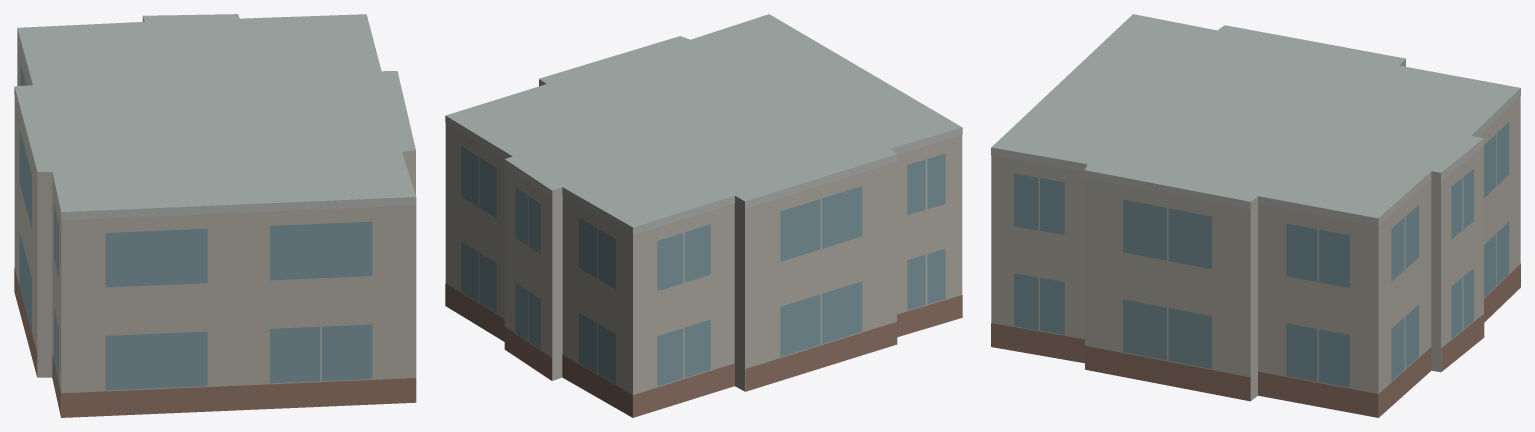
The model's file is survey-upis-32672101.glb.
3 renders of one model, left to right at view 1: azimuth 30°, elevation 25°; view 2: azimuth 150°, elevation 25°; view 3: azimuth 270°, elevation 25°, orthographic. The views are drawn at different scales.
Visible parts, largest first — view 1: survey-upis-32672101.tmp; view 2: survey-upis-32672101.tmp; view 3: survey-upis-32672101.tmp.
Boxes of the visible parts, bbox=[...] form: survey-upis-32672101.tmp: bbox=[14, 14, 416, 417]; survey-upis-32672101.tmp: bbox=[445, 14, 962, 417]; survey-upis-32672101.tmp: bbox=[991, 14, 1520, 417].
Bounding box in the file's own units: 13.42 × 6.1 × 14.69.
